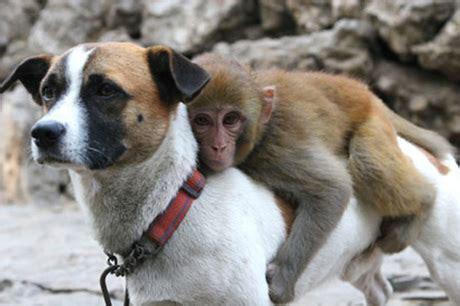dog: (1, 41, 460, 306)
monkey: (187, 53, 443, 303)
